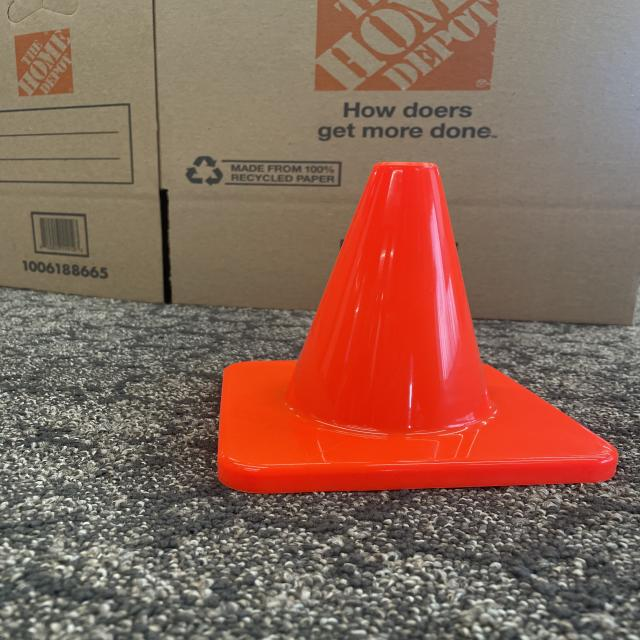Traffic Cone: (220, 166, 616, 494)
